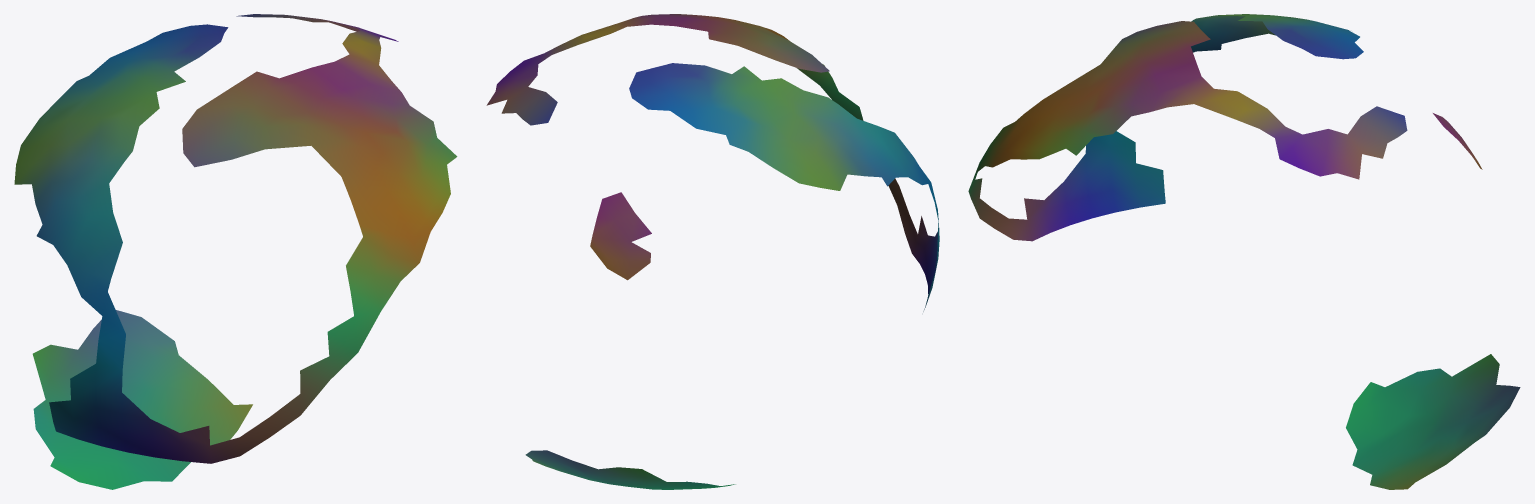
The model's file is space-nebulae-nebula_v31.glb.
3 renders of one model, left to right at view 1: azimuth 30°, elevation 25°; view 2: azimuth 150°, elevation 25°; view 3: azimuth 270°, elevation 25°, orthographic. The views are drawn at different scales.
Parts seen in each view (by area): view 1: Nebula_v31; view 2: Nebula_v31; view 3: Nebula_v31.
Boxes of the visible parts, x1=… form: Nebula_v31: x1=14, y1=14, x2=457, y2=489; Nebula_v31: x1=486, y1=14, x2=939, y2=489; Nebula_v31: x1=968, y1=14, x2=1520, y2=489.
Bounding box in the file's own units: 0.4095 × 0.4294 × 0.5.
